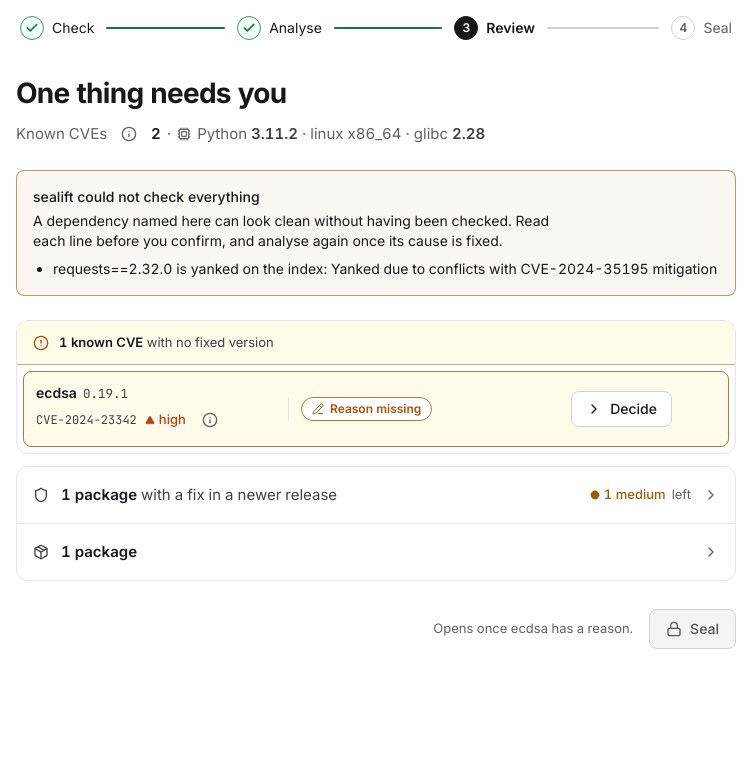
Test: a pip analysis 0.7.0 recorded › reads Pinned in from the files of a 0.7.0 analysis
Expected: the heading "One thing needs you" is shown, 16,76 -> 286,110
Click the button "1 package". click: (99, 551)
box: 17,524 -> 735,580
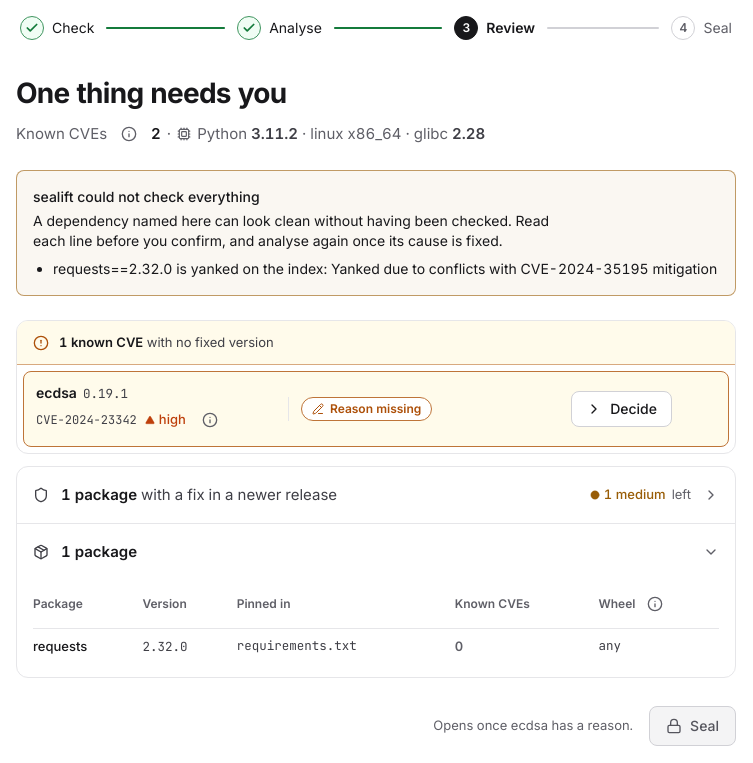
Now the text "requirements.txt" is shown, box 237,637 -> 357,654
